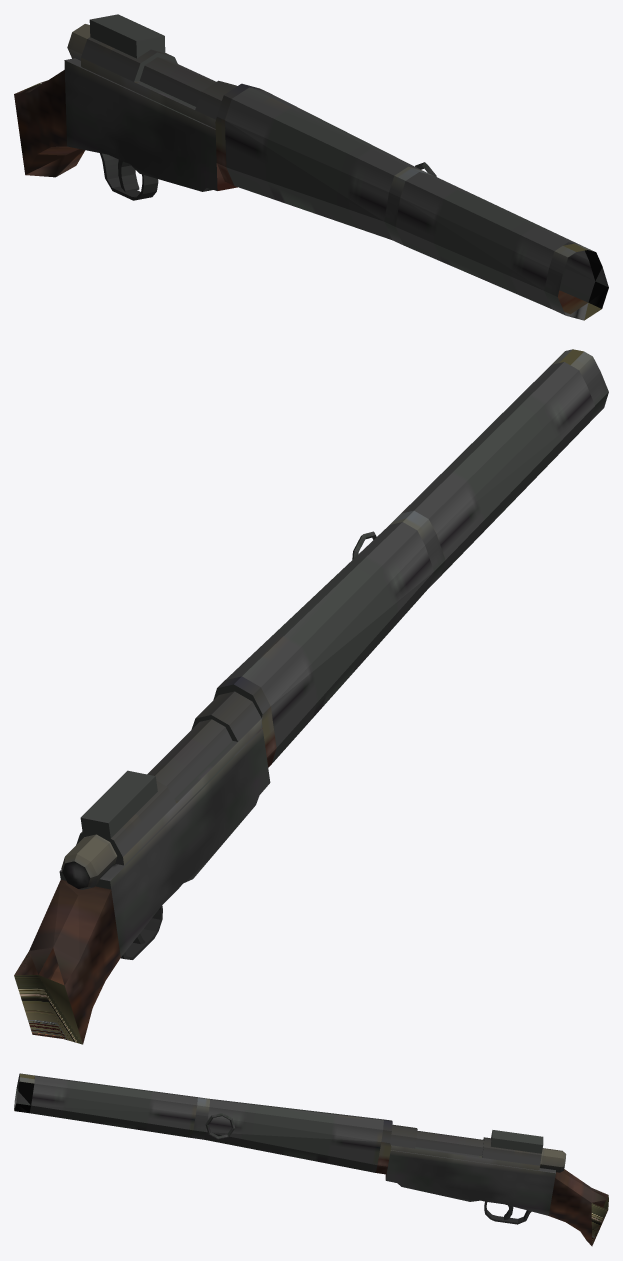
Rendered from flame.dae.
3 views of the same model, one above another, from view 1: azimuth 30°, elevation 25°; view 2: azimuth 150°, elevation 25°; view 3: azimuth 270°, elevation 25° (orthographic). The views are drawn at different scales.
Visible parts, largest first — view 1: flame; view 2: flame; view 3: flame.
Boxes of the visible parts, <box> form: flame: <box>14,14,608,320</box>; flame: <box>14,349,608,1044</box>; flame: <box>14,1073,608,1246</box>.
Size of the model in its own units: 0.1176 by 1.79 by 0.5522.
